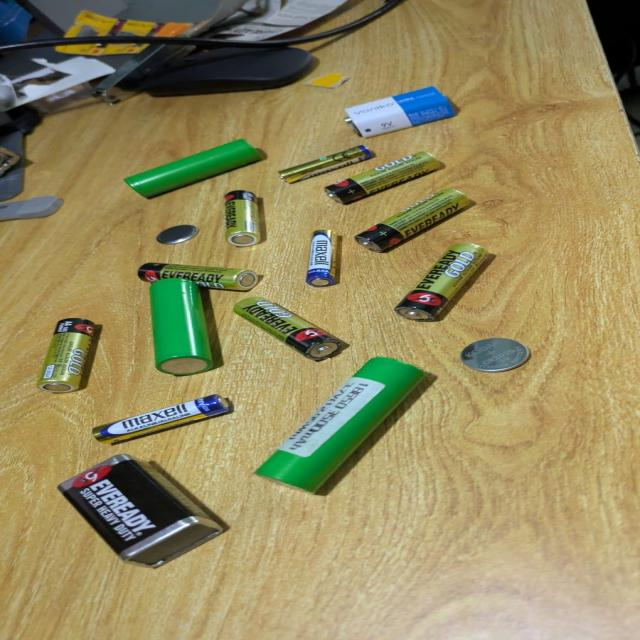9V: (55, 454, 223, 566), (342, 86, 458, 138)
AA: (352, 189, 472, 253), (392, 244, 491, 320), (232, 297, 346, 360), (321, 150, 445, 204), (36, 318, 96, 394), (136, 262, 259, 292), (222, 191, 264, 247)
AAA: (90, 394, 234, 445), (276, 146, 373, 184), (306, 231, 338, 287)
COIN: (458, 338, 530, 372), (154, 224, 199, 246)
